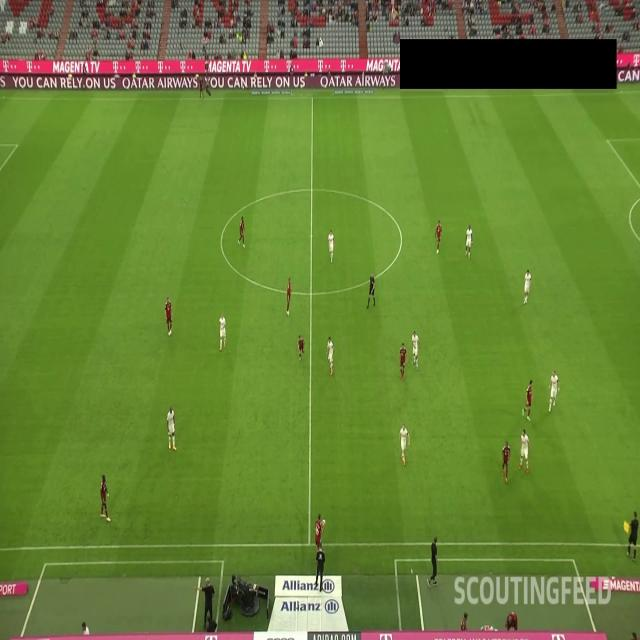ball: (321, 515, 327, 529)
player: (99, 474, 111, 524), (398, 424, 411, 468), (525, 374, 535, 420), (167, 407, 177, 452), (284, 274, 292, 320), (551, 367, 558, 418), (218, 313, 228, 348), (520, 428, 528, 471), (410, 329, 419, 365), (503, 438, 510, 484), (326, 334, 334, 374), (296, 330, 306, 361), (314, 514, 321, 558), (238, 214, 246, 252), (165, 297, 173, 334), (327, 228, 336, 260), (524, 267, 531, 305), (399, 342, 406, 378), (435, 220, 441, 258), (466, 223, 472, 260)
